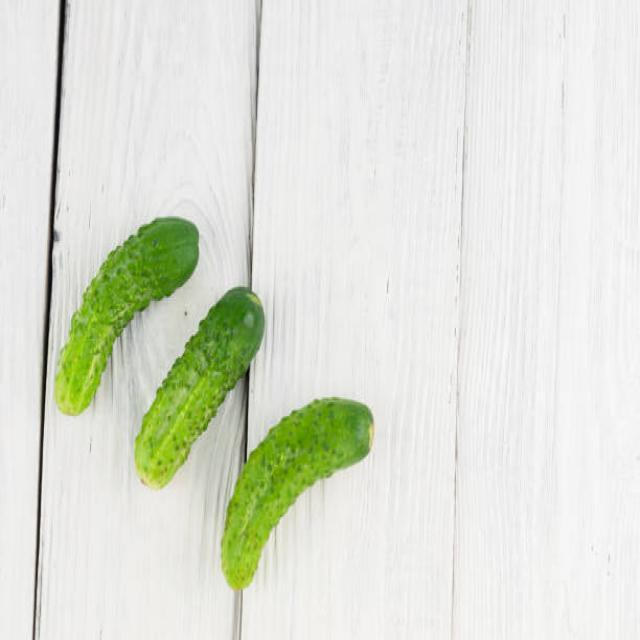cucumber: (221, 397, 374, 594), (53, 214, 199, 416), (134, 281, 266, 491)
